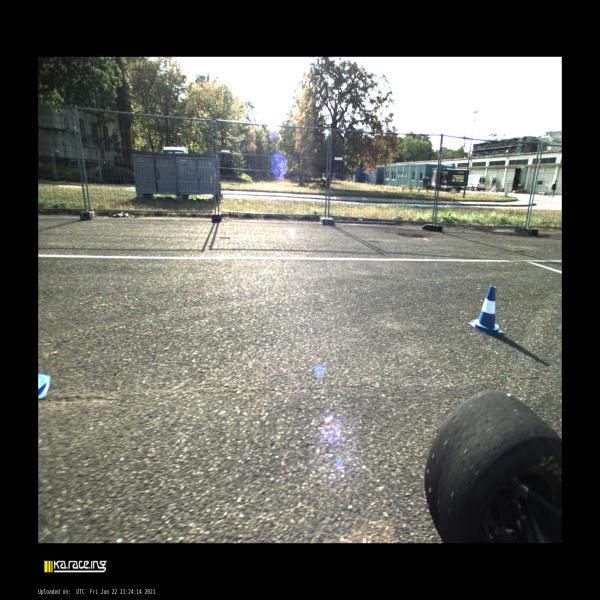blue_cone: (468, 286, 502, 334)
